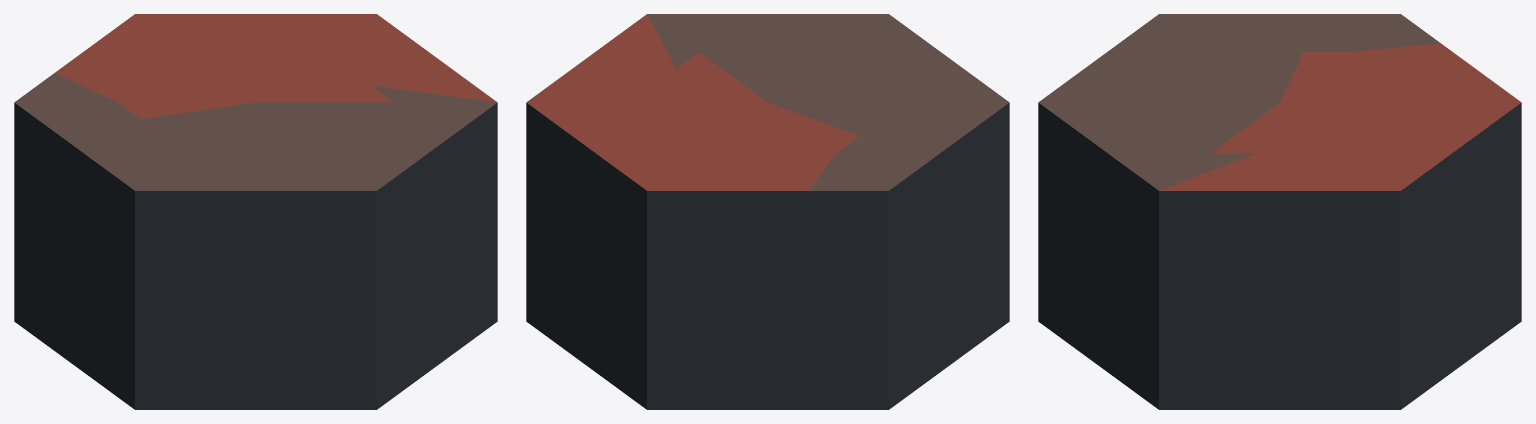
Rendered from AE_Hex_Lava_Cinder.fbx.
3 views of the same model, side by side, from view 1: azimuth 30°, elevation 25°; view 2: azimuth 150°, elevation 25°; view 3: azimuth 270°, elevation 25° (orthographic).
Parts seen in each view (by area): view 1: AE_Hex_Lava_Cinder; view 2: AE_Hex_Lava_Cinder; view 3: AE_Hex_Lava_Cinder.
Part boxes in pixels (left/top/right/bottom): AE_Hex_Lava_Cinder: left=14, top=14, right=497, bottom=409; AE_Hex_Lava_Cinder: left=526, top=14, right=1009, bottom=409; AE_Hex_Lava_Cinder: left=1038, top=14, right=1521, bottom=409.
Bounding box in the file's own units: 1.73 × 1 × 2.
